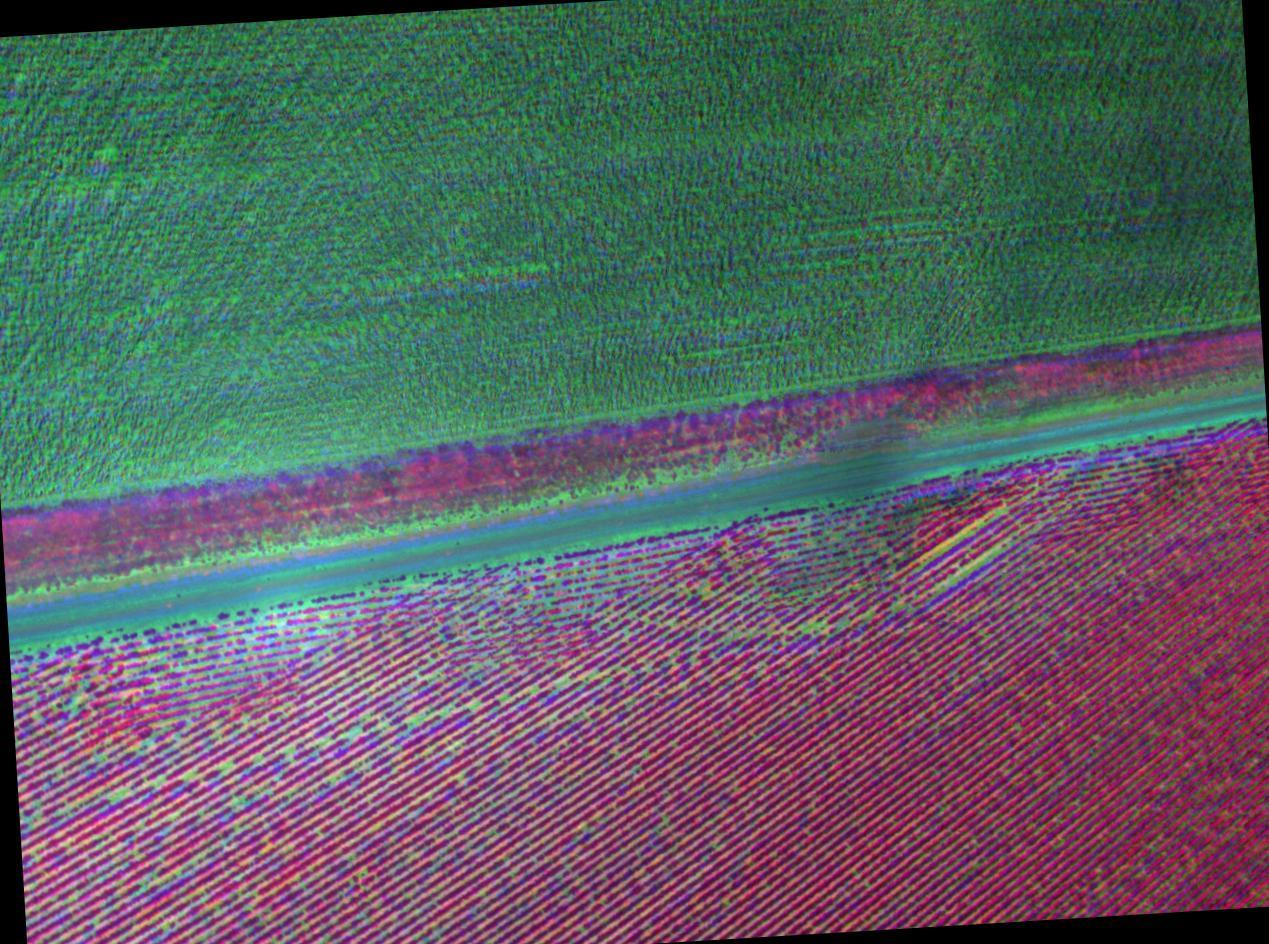dc: (974, 561, 982, 566), (416, 715, 424, 720), (189, 774, 197, 779), (961, 532, 967, 538), (288, 748, 294, 754), (114, 792, 122, 796), (808, 624, 814, 629), (226, 763, 232, 768), (728, 637, 733, 642), (562, 679, 567, 684), (471, 702, 477, 706), (354, 728, 359, 732), (257, 758, 261, 762), (158, 780, 163, 783)
